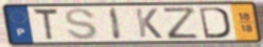D: (198, 6, 232, 40)
I: (108, 6, 124, 41)
K: (133, 7, 164, 40)
S: (63, 7, 100, 41)
T: (32, 8, 60, 42)
Z: (161, 6, 201, 40)
